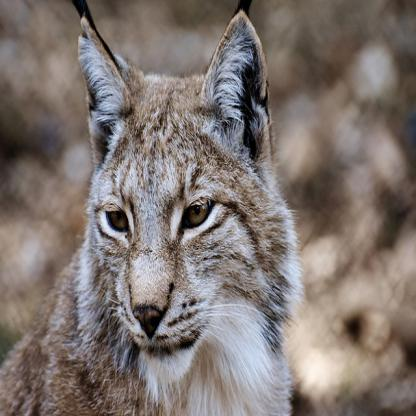cat: (1, 0, 293, 415)
